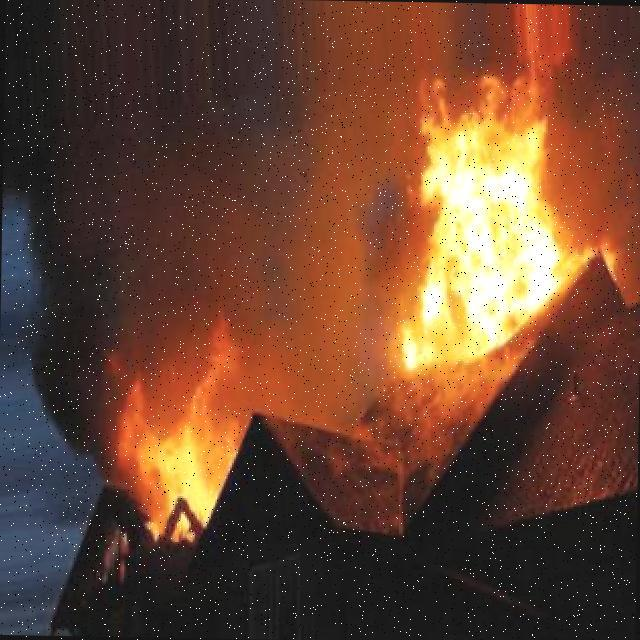Fire: (405, 78, 562, 371), (121, 339, 252, 539)
